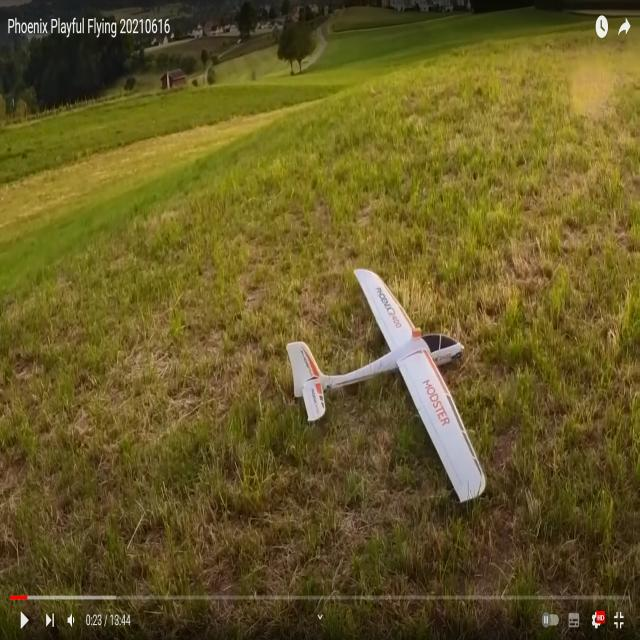iha: (287, 256, 482, 516)
